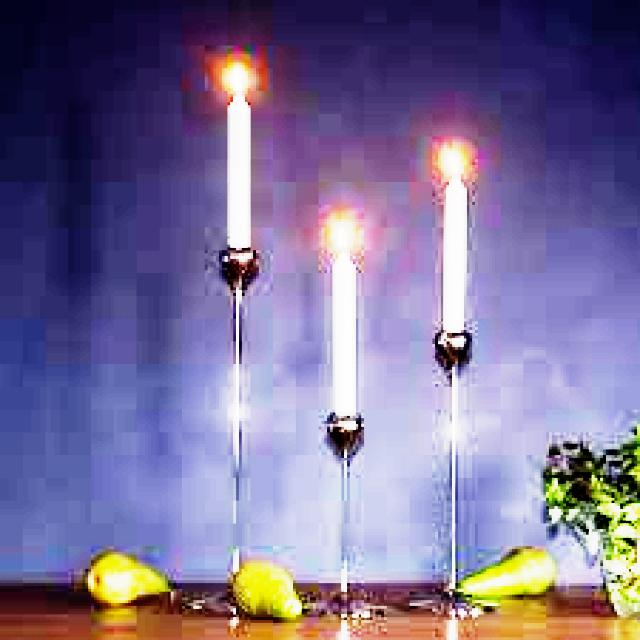api: (428, 138, 473, 183), (323, 212, 363, 254), (220, 52, 251, 98)
